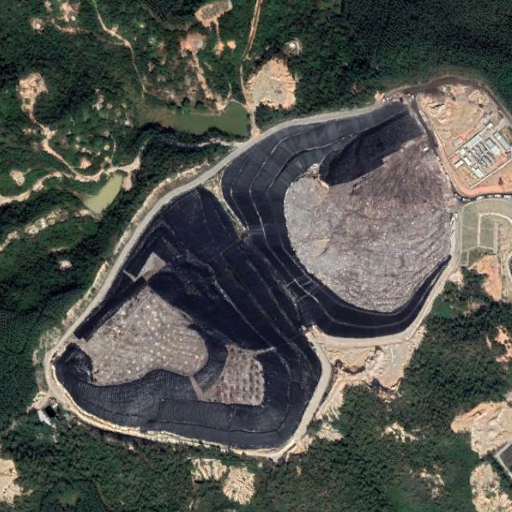lf: (50, 107, 458, 455)
